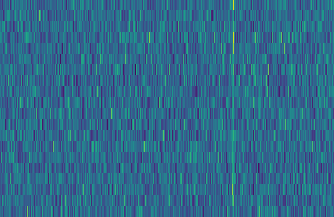signal: (229, 0, 238, 217)
